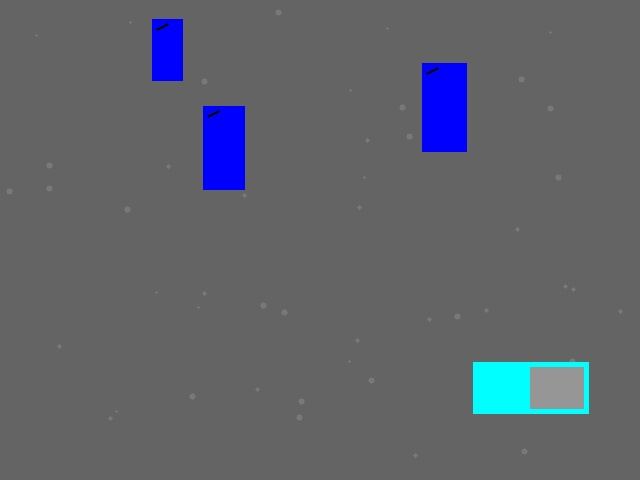motorcycle: (422, 63, 466, 151), (203, 106, 244, 189), (152, 19, 182, 80)
truck: (473, 362, 588, 413)
